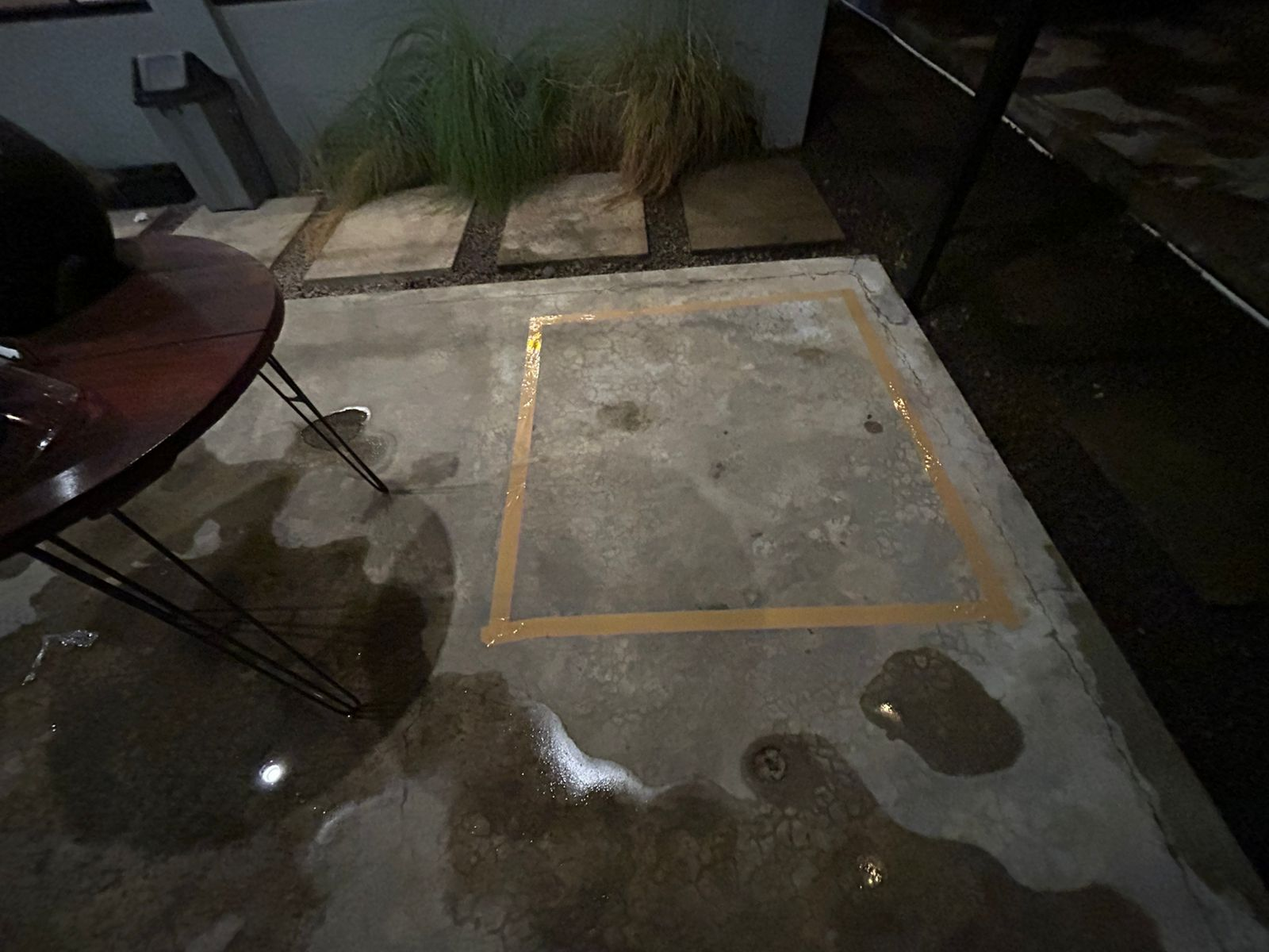floor marking: (481, 288, 1017, 646)
